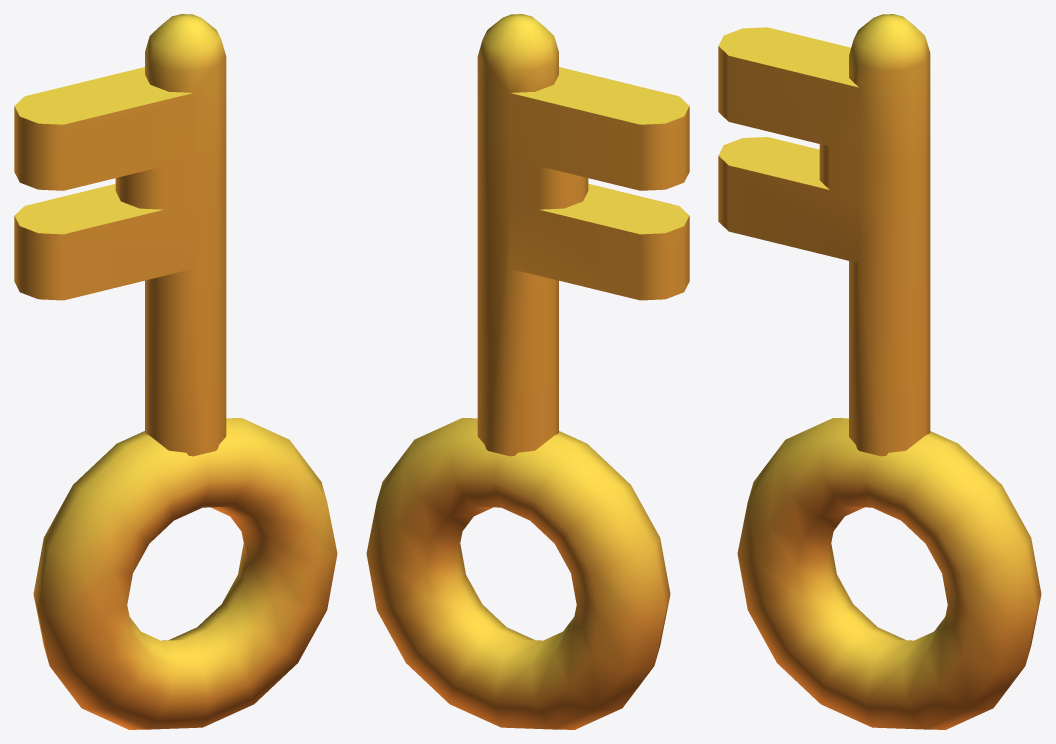
The model's file is key.fbx.
3 views of the same model, side by side, from view 1: azimuth 30°, elevation 25°; view 2: azimuth 150°, elevation 25°; view 3: azimuth 330°, elevation 25° (orthographic).
Visible parts, largest first — view 1: Key; view 2: Key; view 3: Key.
Part boxes in pixels (x1=…): Key: x1=14, y1=14, x2=337, y2=729; Key: x1=366, y1=14, x2=689, y2=729; Key: x1=718, y1=14, x2=1041, y2=729.
Bounding box in the file's own units: 10.43 × 22.63 × 2.8.
Materials: 1 (1 with a texture image).
